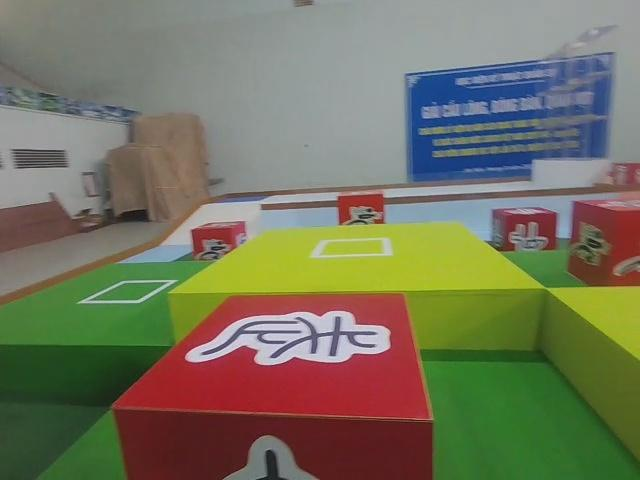R1: (560, 197, 640, 287), (187, 218, 249, 263), (333, 189, 387, 230)
R2 Fake: (105, 287, 434, 480)
R2 Real: (488, 205, 560, 255)
